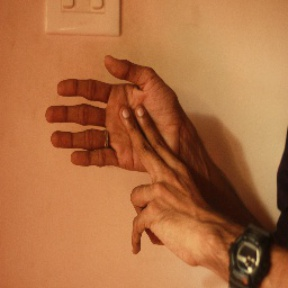N: (36, 46, 202, 231)
